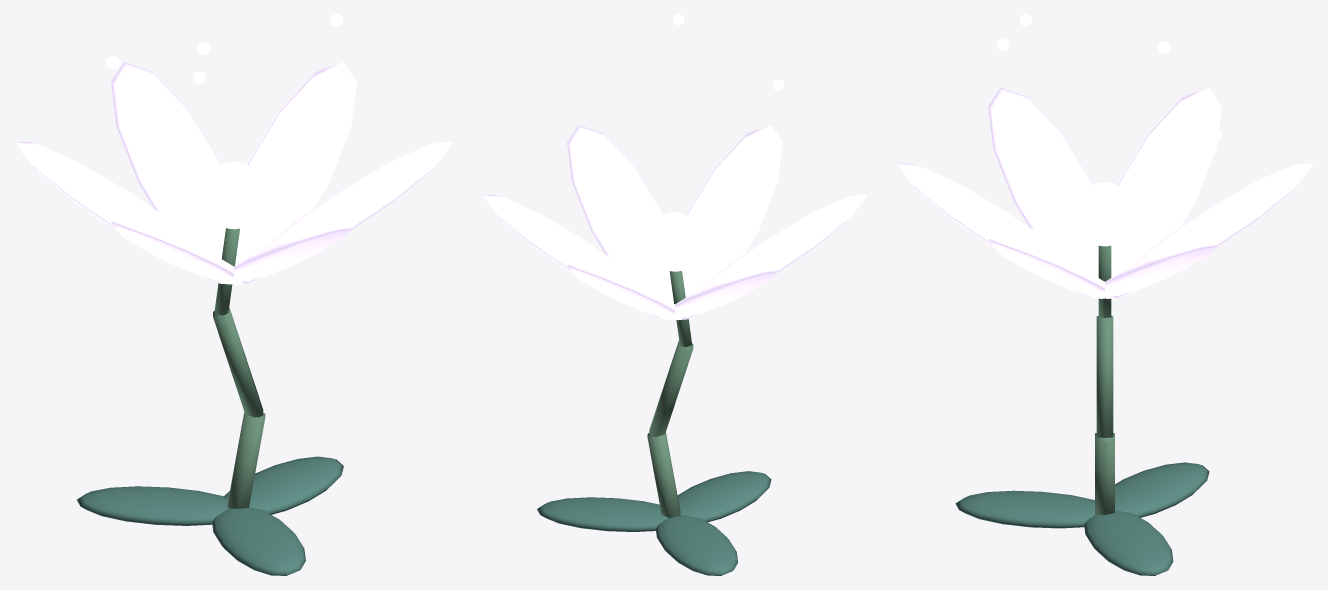
File: moonpetal.glb
The picture shows the model from 3 angles, left to right: view 1: azimuth 30°, elevation 25°; view 2: azimuth 150°, elevation 25°; view 3: azimuth 270°, elevation 25°; orthographic projection. The views are drawn at different scales.
Visible parts, largest first — view 1: Moonpetal; view 2: Moonpetal; view 3: Moonpetal.
Boxes of the visible parts, x1,y1,x2,y2 form: Moonpetal: (14,14,453,575); Moonpetal: (482,14,867,575); Moonpetal: (896,14,1313,575).
Bounding box in the file's own units: 0.5497 × 0.8679 × 0.6347.
